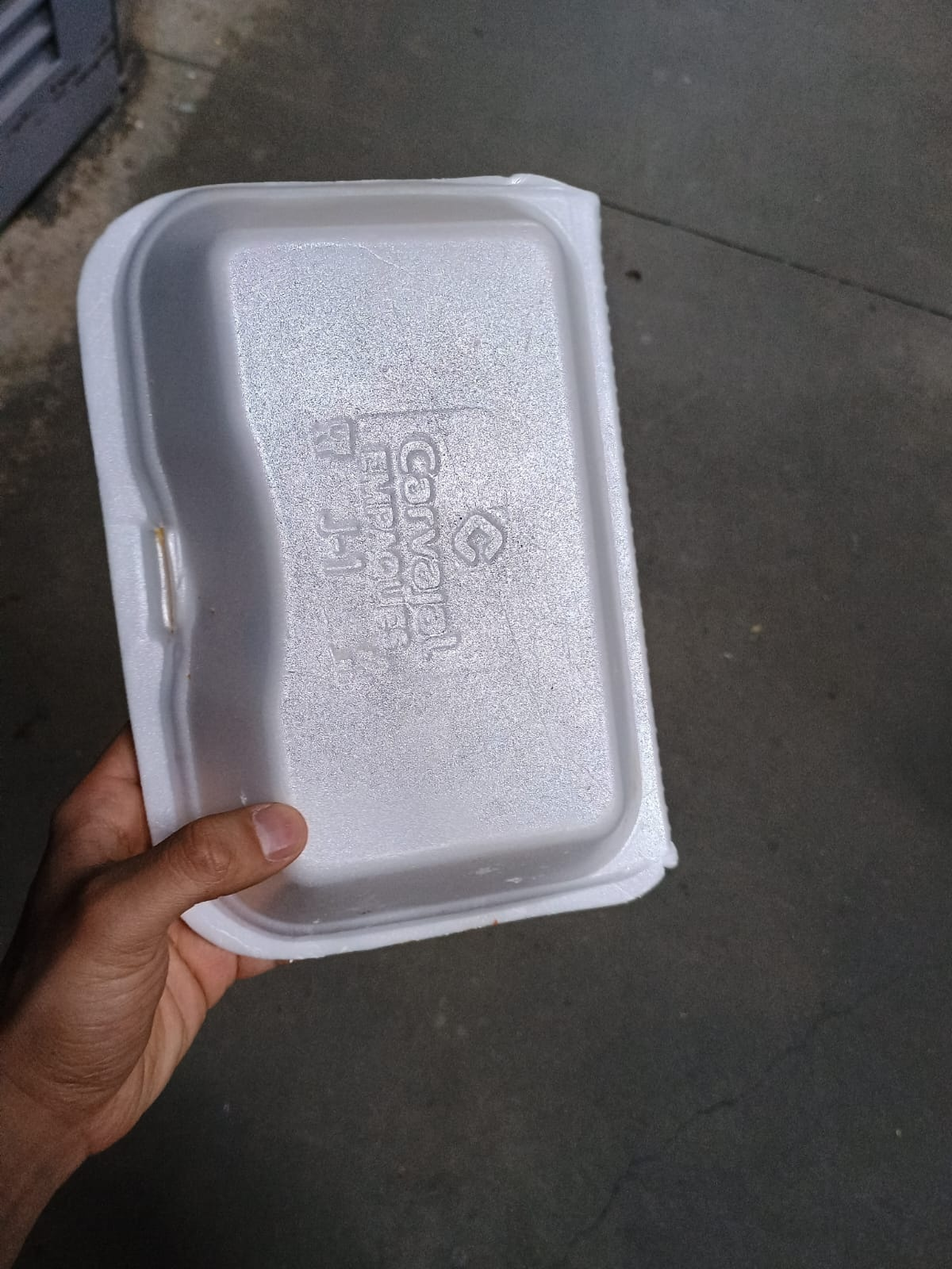Ordinario: (74, 172, 676, 965)
